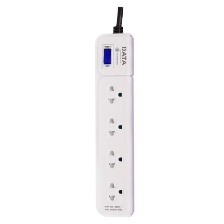three_eye_plug: (89, 27, 136, 217)
